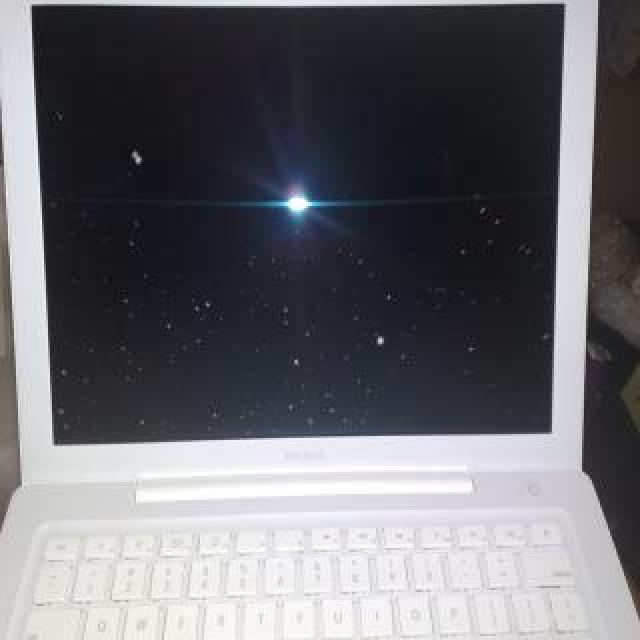laptop_computer: (8, 0, 602, 640)
